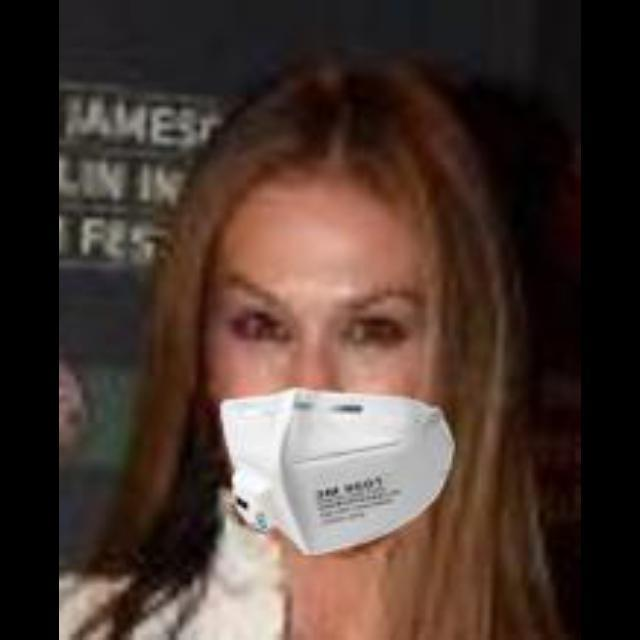suspicion: (135, 50, 548, 578)
